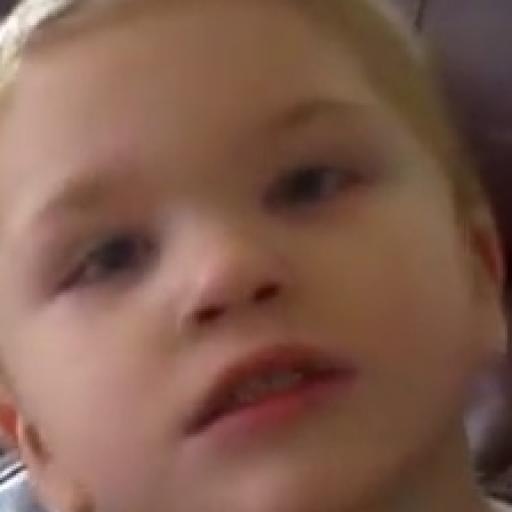Autism: (4, 7, 451, 478)
